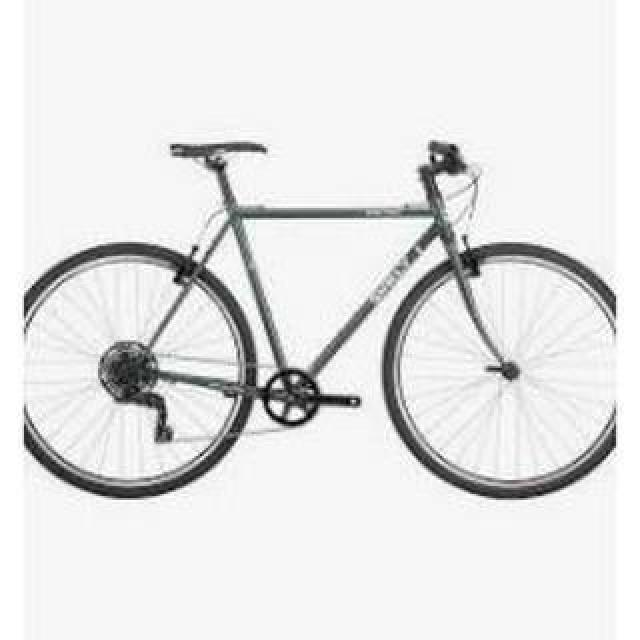Person: (19, 128, 611, 514)
